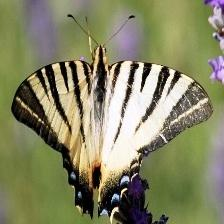butterfly: (12, 46, 214, 218)
